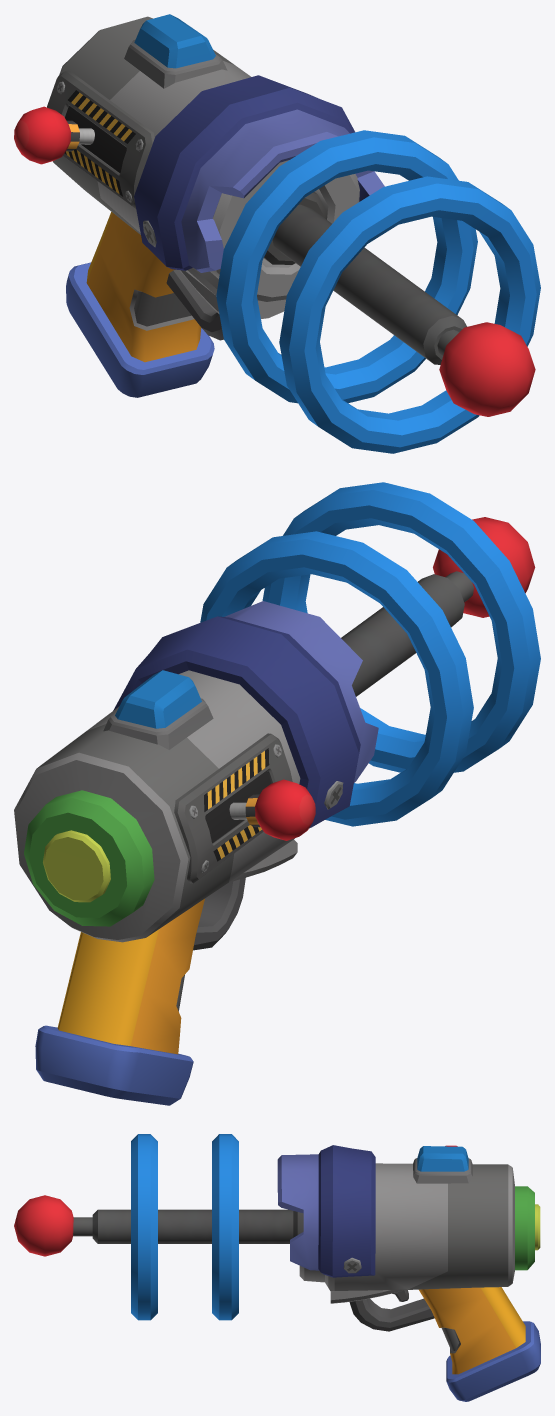
The model's file is SM_Blaster_1_A_SW.fbx.
3 renders of one model, top to bottom at view 1: azimuth 30°, elevation 25°; view 2: azimuth 150°, elevation 25°; view 3: azimuth 270°, elevation 25°, orthographic. The views are drawn at different scales.
Visible parts, largest first — view 1: SM_Blaster_1_A_SW, Blaster_1_Handle_SW; view 2: SM_Blaster_1_A_SW, Blaster_1_Handle_SW; view 3: SM_Blaster_1_A_SW.
Part boxes in pixels (<box>): SM_Blaster_1_A_SW: <box>47,14,540,453</box>; Blaster_1_Handle_SW: <box>14,106,94,164</box>; SM_Blaster_1_A_SW: <box>14,482,540,1105</box>; Blaster_1_Handle_SW: <box>229,779,315,840</box>; SM_Blaster_1_A_SW: <box>14,1134,540,1401</box>.
Size of the model in its own units: 0.2371 by 0.3141 by 0.6025.
